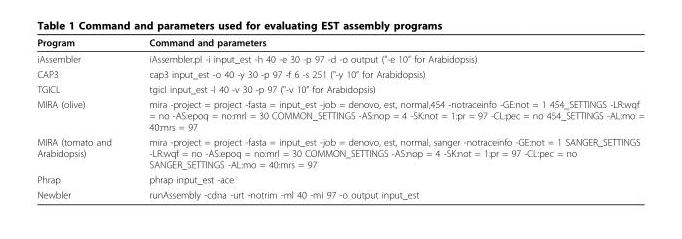table: (36, 36, 643, 199)
table column: (129, 36, 643, 199), (36, 36, 129, 199)
table column header: (36, 36, 643, 50)
table row: (36, 96, 643, 134), (36, 134, 643, 171), (36, 50, 643, 66), (36, 66, 643, 81), (36, 81, 643, 96), (36, 171, 643, 186), (36, 36, 643, 50), (36, 186, 643, 199)
